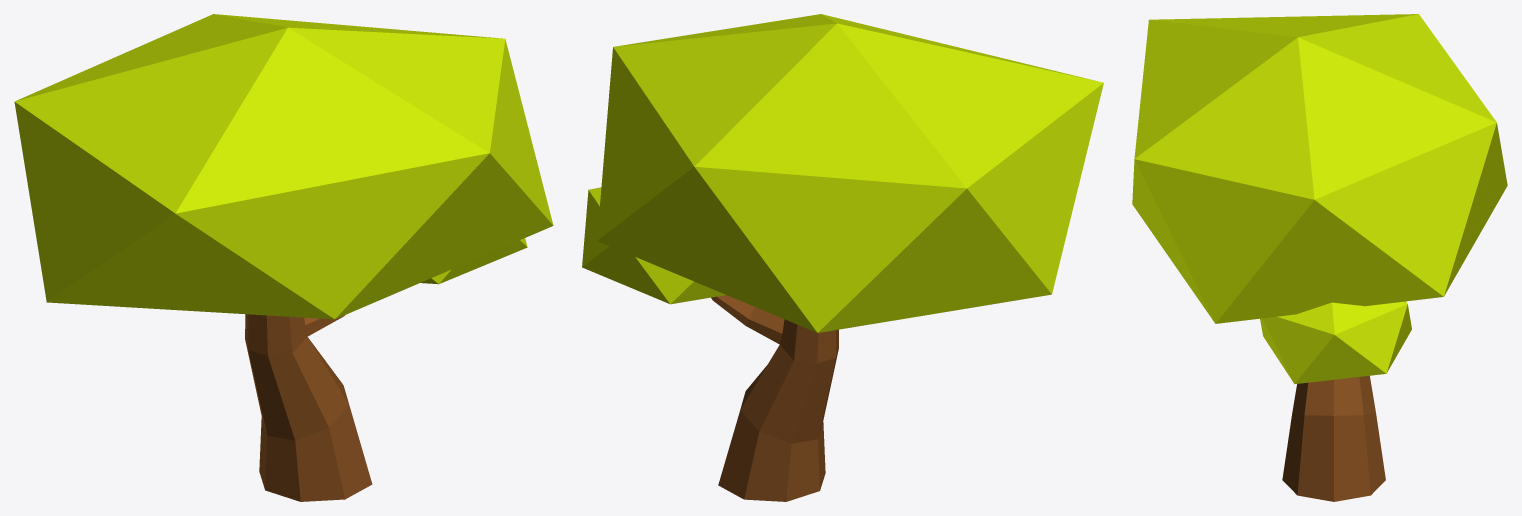
Rendered from Bush2.glb.
3 renders of one model, left to right at view 1: azimuth 30°, elevation 25°; view 2: azimuth 150°, elevation 25°; view 3: azimuth 270°, elevation 25°, orthographic. The views are drawn at different scales.
Visible parts, largest first — view 1: Bush2; view 2: Bush2; view 3: Bush2.
Boxes of the visible parts, left/top/right/bottom form: Bush2: left=14, top=14, right=553, bottom=501; Bush2: left=582, top=14, right=1103, bottom=501; Bush2: left=1132, top=14, right=1507, bottom=501.
Bounding box in the file's own units: 0.9968 × 0.9567 × 0.7714.
